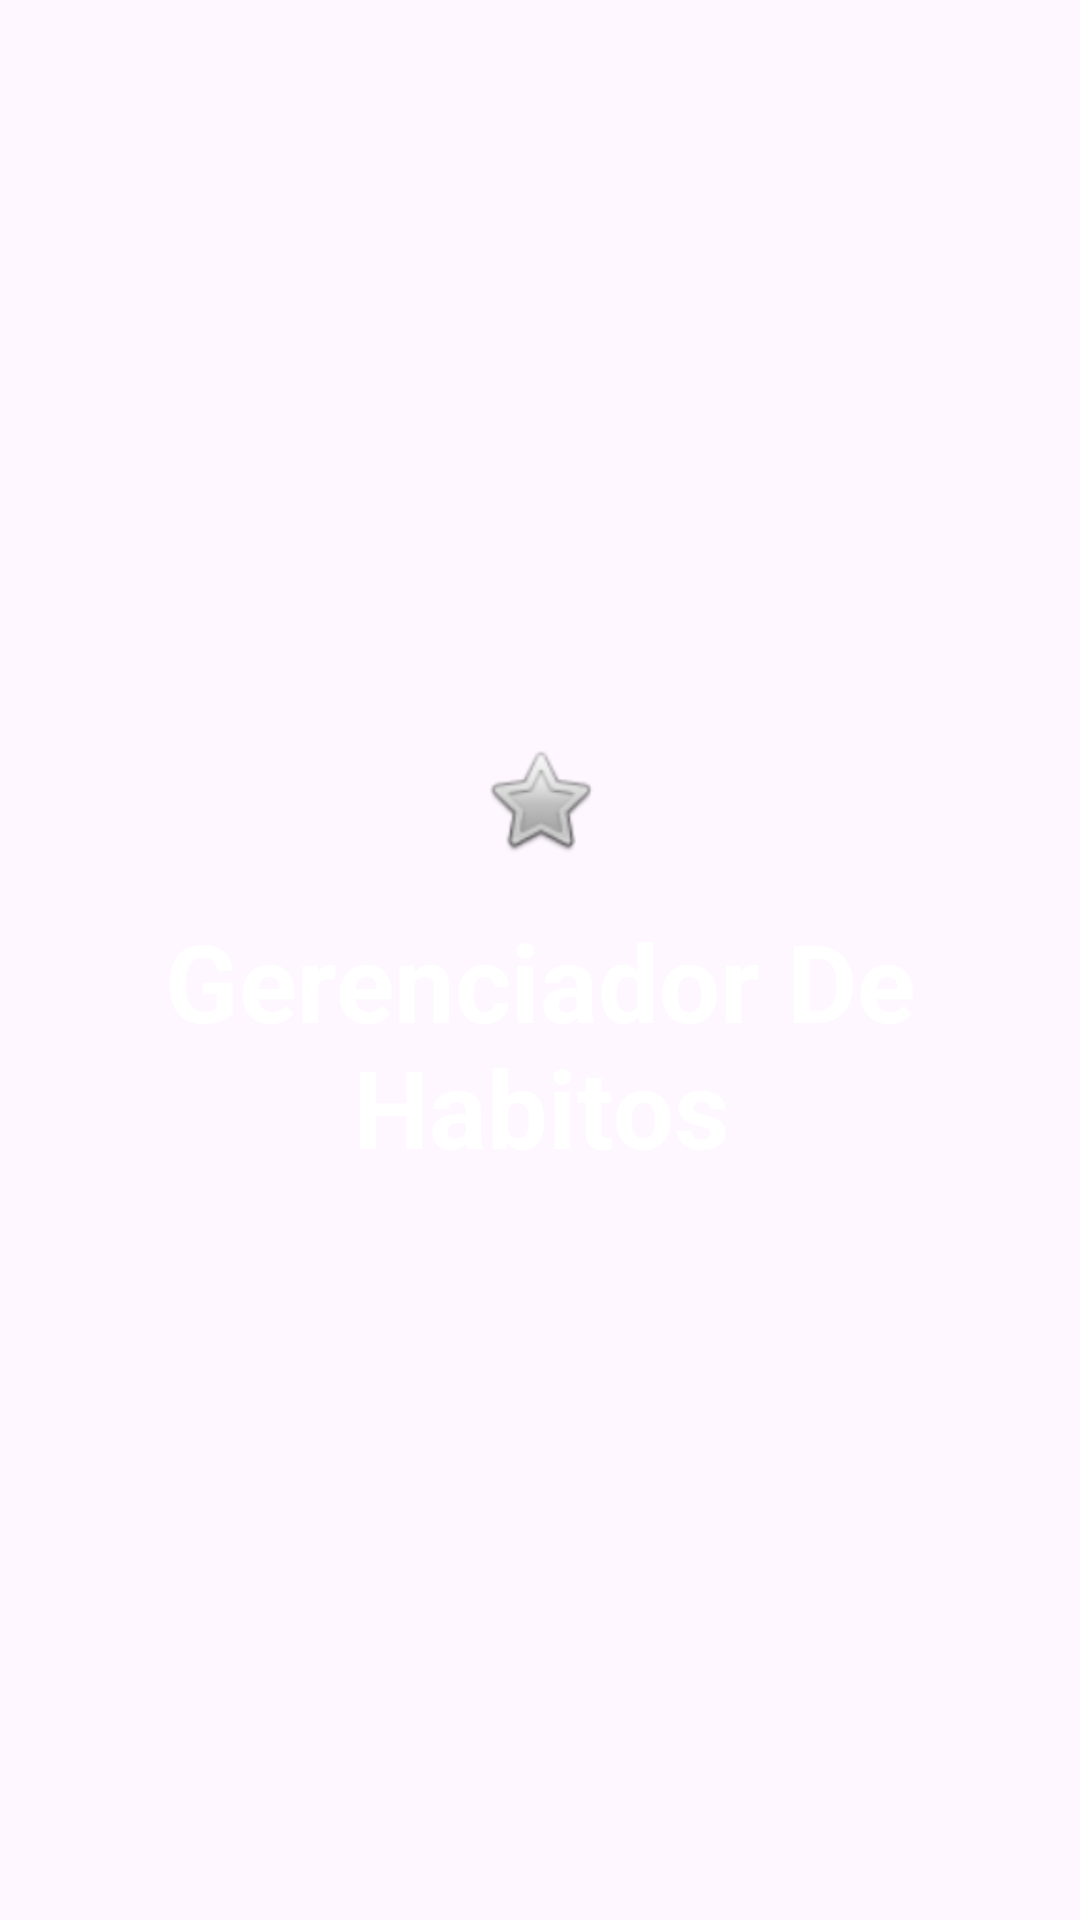

Where icons sit on this 1080x1920 app screen, as (x1, y1, x2, y2):
star off: (491, 752, 591, 850)
